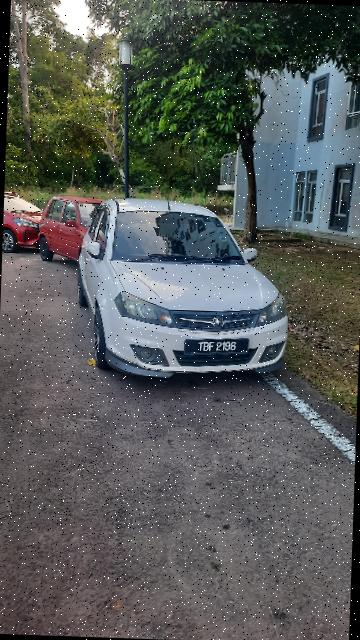License_Plate: (179, 336, 251, 358)
car: (67, 193, 299, 392)
